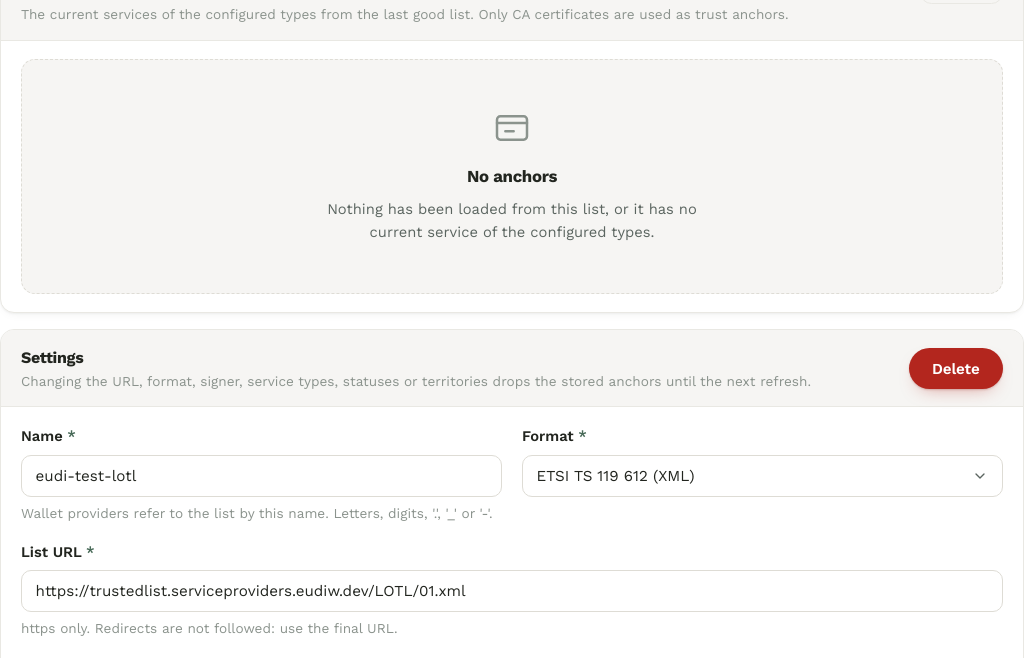
TrustedListDetailPage › explains that a list in use cannot be deleted
(page scrolled)
Click the button "Delete" at [956, 369], box [909,348,1003,390]
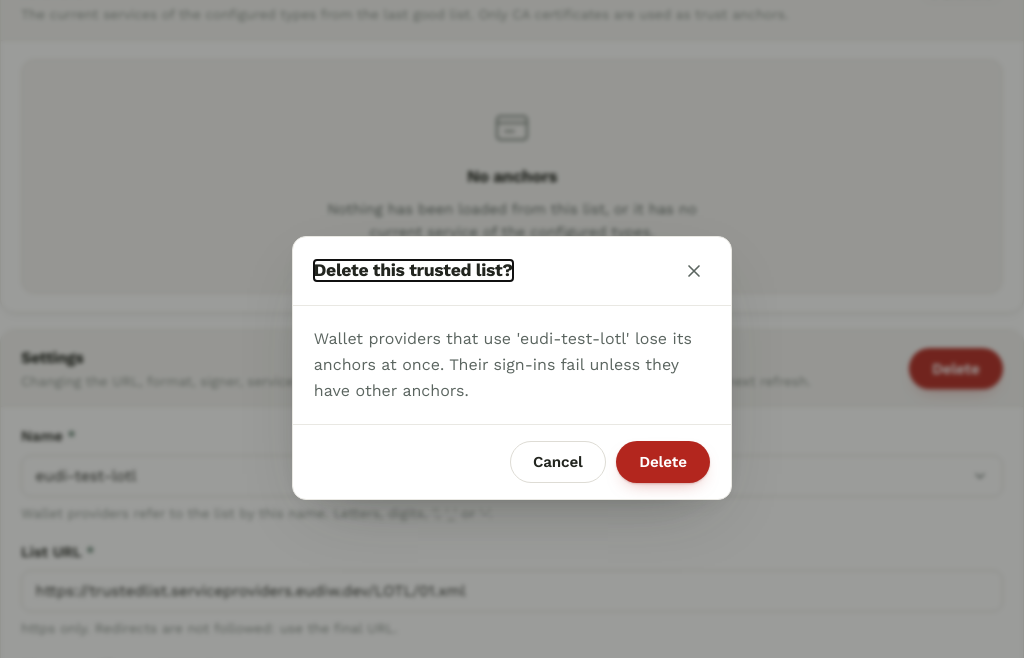
Click the button "Delete" at [663, 462], box [616,441,710,483]
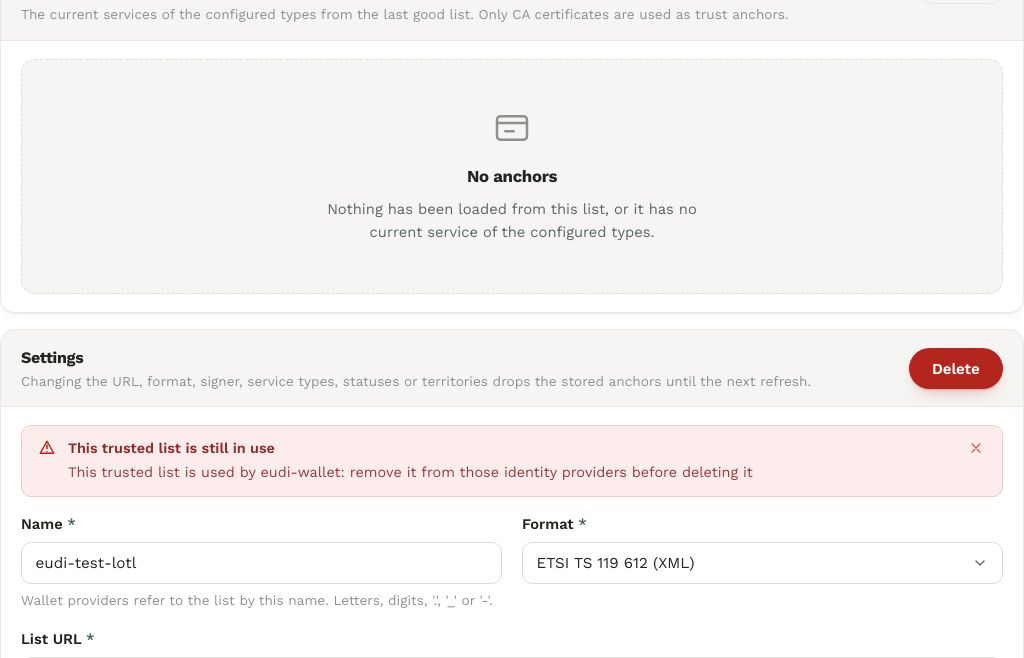
Expected: the text "used by eudi-wallet" is shown, [68,464,753,480]
